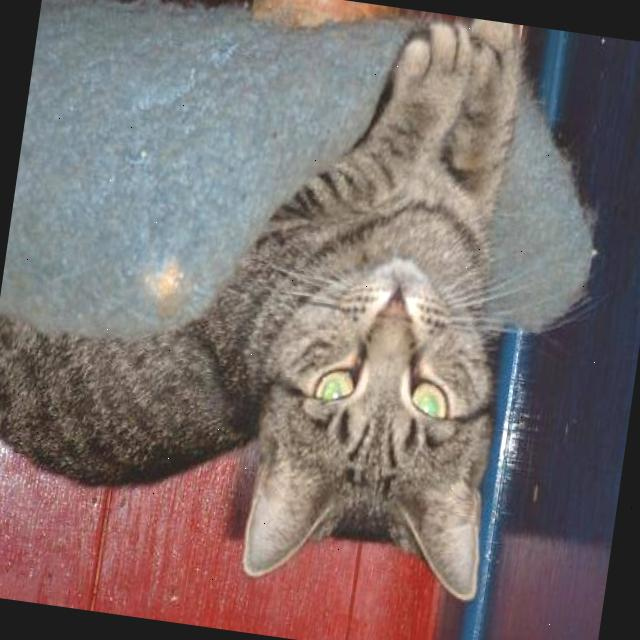cat-eye-normal: (396, 371, 464, 432), (306, 353, 366, 418)
